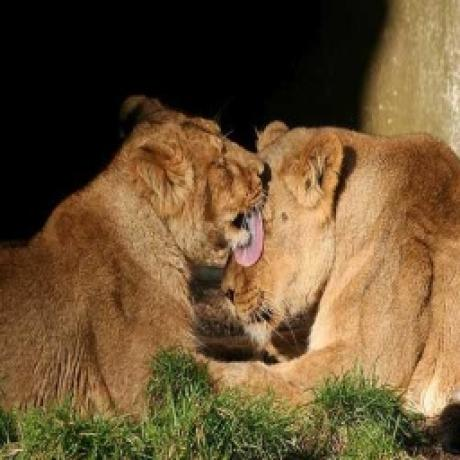Lion: (0, 86, 275, 422), (219, 110, 460, 436)
